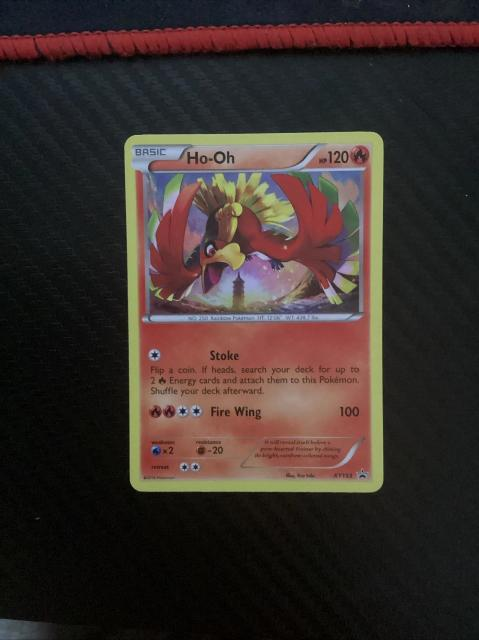Card: (121, 126, 390, 497)
Name: (184, 146, 239, 168)
